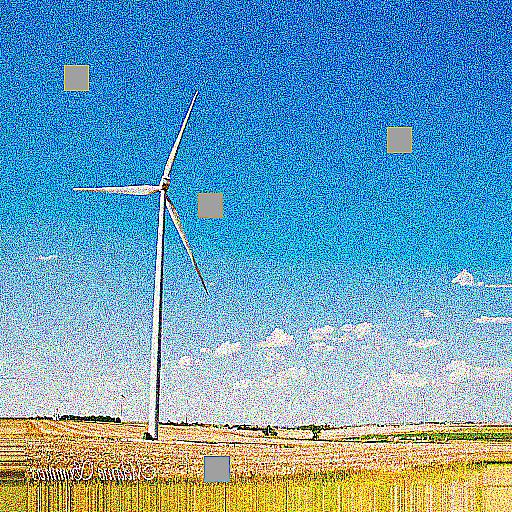wind turbine: (72, 87, 209, 441)
